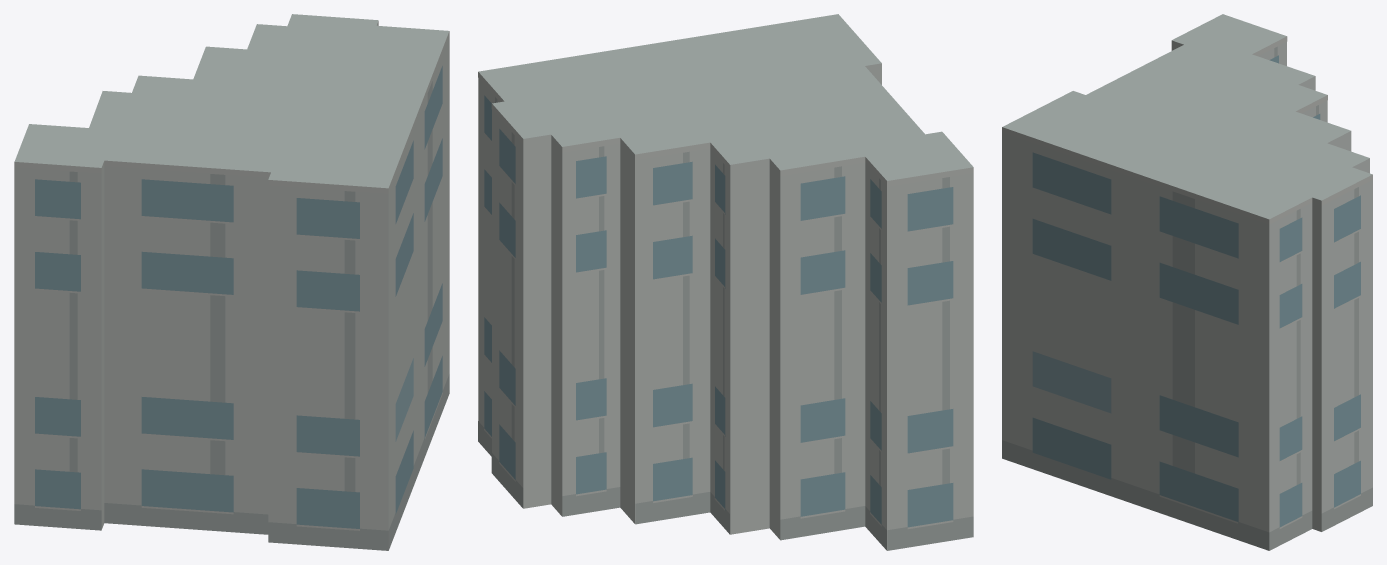
Rendered from survey-upis-32763502.glb.
3 views of the same model, side by side, from view 1: azimuth 30°, elevation 25°; view 2: azimuth 150°, elevation 25°; view 3: azimuth 270°, elevation 25° (orthographic). The views are drawn at different scales.
Parts seen in each view (by area): view 1: survey-upis-32763502.tmp; view 2: survey-upis-32763502.tmp; view 3: survey-upis-32763502.tmp.
Boxes of the visible parts, box(x1,y1,x2,y2) form: survey-upis-32763502.tmp: box(14, 14, 449, 550); survey-upis-32763502.tmp: box(478, 14, 973, 550); survey-upis-32763502.tmp: box(1002, 14, 1372, 550).
Bounding box in the file's own units: 20.27 × 15.25 × 15.46.
